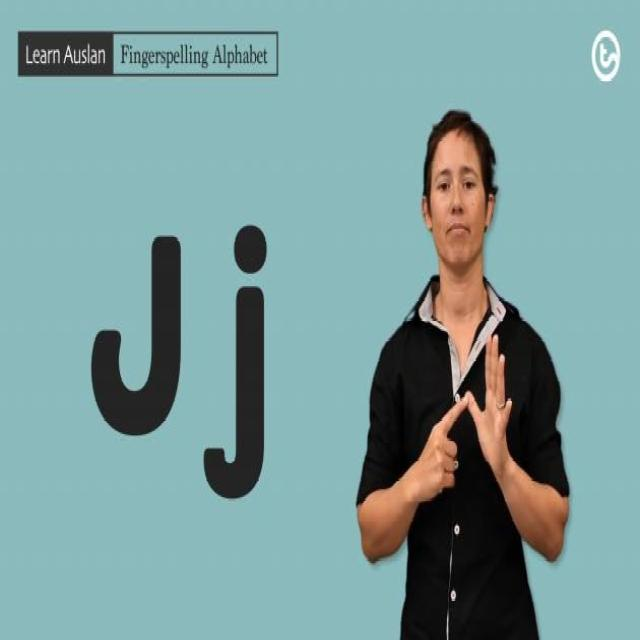J: (429, 333, 515, 505)
